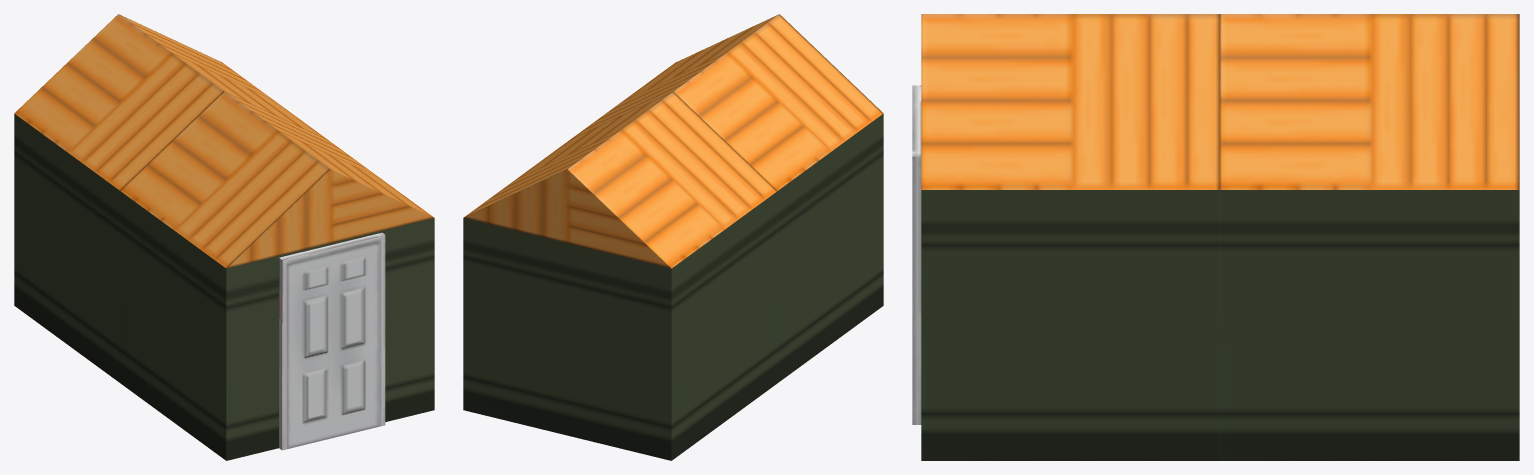
File: Shed_5.fbx
3 renders of one model, left to right at view 1: azimuth 30°, elevation 25°; view 2: azimuth 150°, elevation 25°; view 3: azimuth 270°, elevation 25°, orthographic. The views are drawn at different scales.
Parts seen in each view (by area): view 1: Maya_File_Assets:TexturedAssetsCurrent:GrEen_Shed; view 2: Maya_File_Assets:TexturedAssetsCurrent:GrEen_Shed; view 3: Maya_File_Assets:TexturedAssetsCurrent:GrEen_Shed.
Boxes of the visible parts, x1=… form: Maya_File_Assets:TexturedAssetsCurrent:GrEen_Shed: x1=14, y1=14, x2=434, y2=460; Maya_File_Assets:TexturedAssetsCurrent:GrEen_Shed: x1=463, y1=14, x2=883, y2=460; Maya_File_Assets:TexturedAssetsCurrent:GrEen_Shed: x1=912, y1=14, x2=1519, y2=460.
Bounding box in the file's own units: 3.22 × 3.93 × 5.76.
